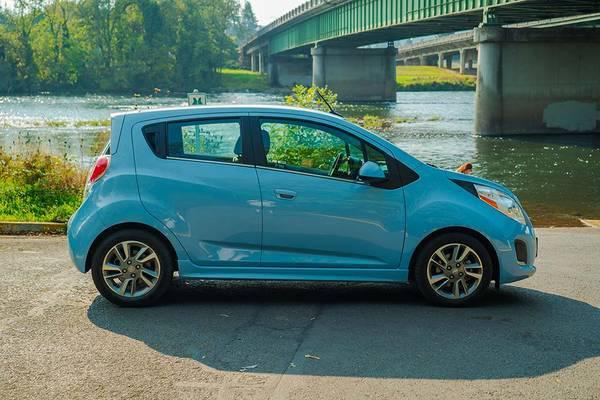Front_Bumper: (493, 227, 537, 284)
Front_Fender: (397, 167, 525, 286)
Front_Right_Door: (253, 171, 404, 287)
Front_Right_Window: (244, 116, 405, 198)
Rear_Bumper: (68, 179, 107, 271)
Rear_Fender: (92, 156, 147, 226)
Rear_Right_Door: (132, 158, 261, 282)
Rear_Right_Window: (133, 114, 251, 169)
Right_Headlight: (456, 180, 529, 226)
Right_Taillight: (90, 154, 114, 187)
Roof: (109, 106, 434, 175)
Wheel: (92, 230, 174, 308), (418, 232, 494, 304)
